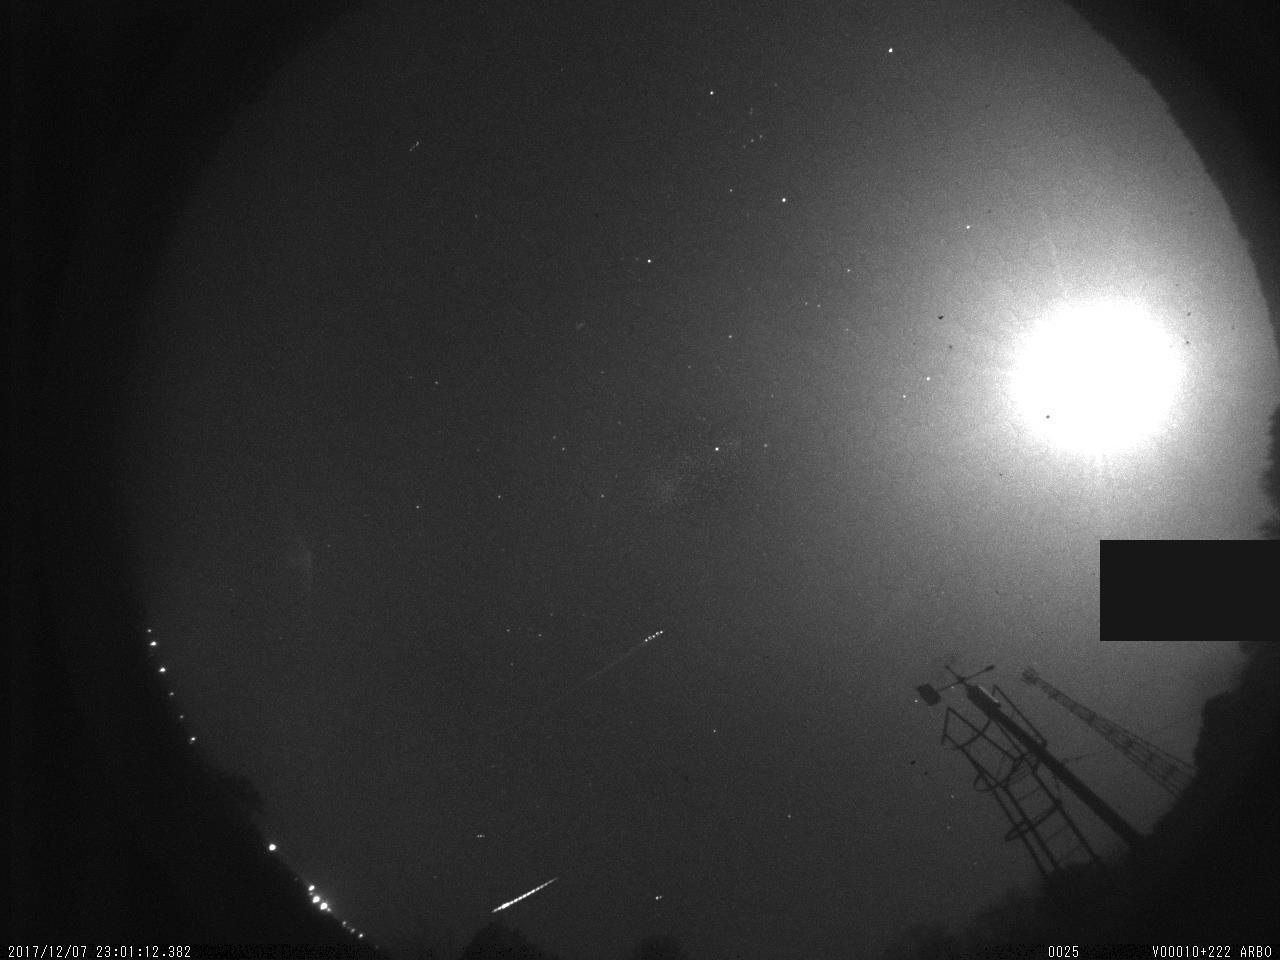meteor: (486, 869, 565, 919)
satelite: (639, 625, 671, 648)
